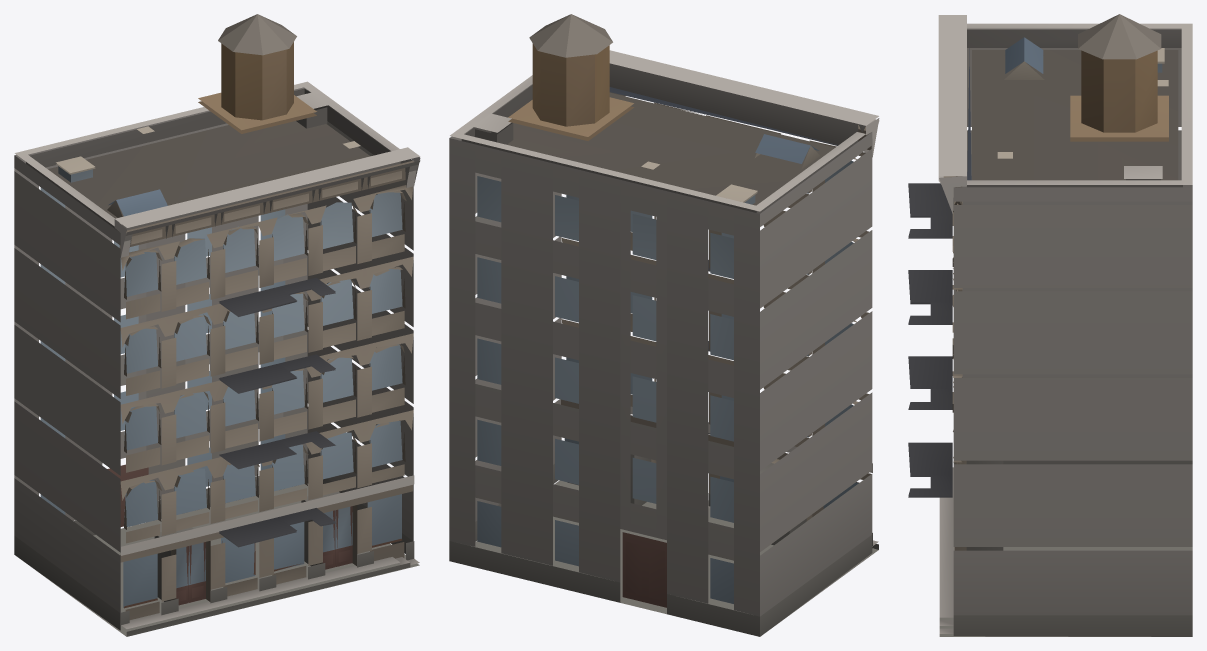
File: loft.lod.glb
3 views of the same model, side by side, from view 1: azimuth 30°, elevation 25°; view 2: azimuth 150°, elevation 25°; view 3: azimuth 270°, elevation 25° (orthographic). The views are drawn at different scales.
Visible parts, largest first — view 1: loft; view 2: loft; view 3: loft.
Boxes of the visible parts, left/top/right/bottom form: loft: left=14, top=14, right=420, bottom=636; loft: left=449, top=14, right=879, bottom=636; loft: left=908, top=14, right=1192, bottom=636.
Bounding box in the file's own units: 12 × 20.06 × 8.95.
